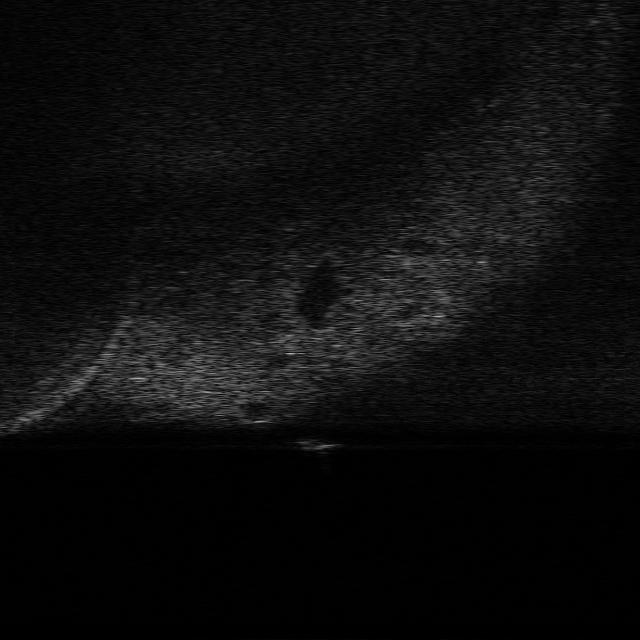cube: (295, 439, 344, 453)
